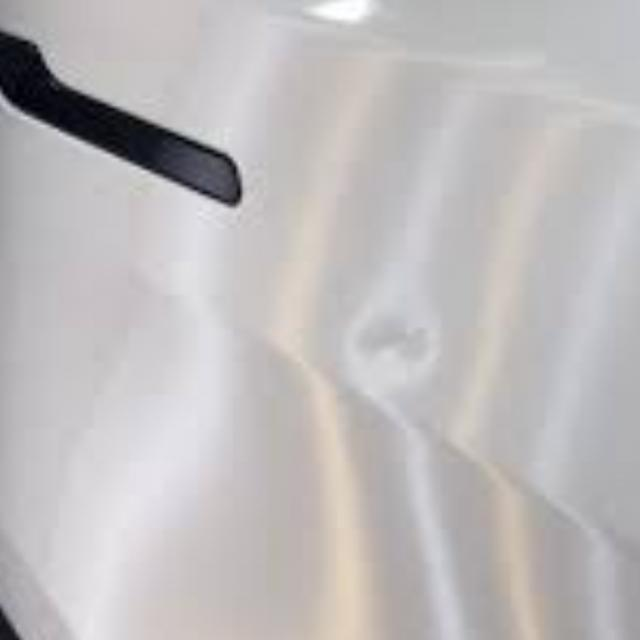dents: (344, 316, 454, 406)
